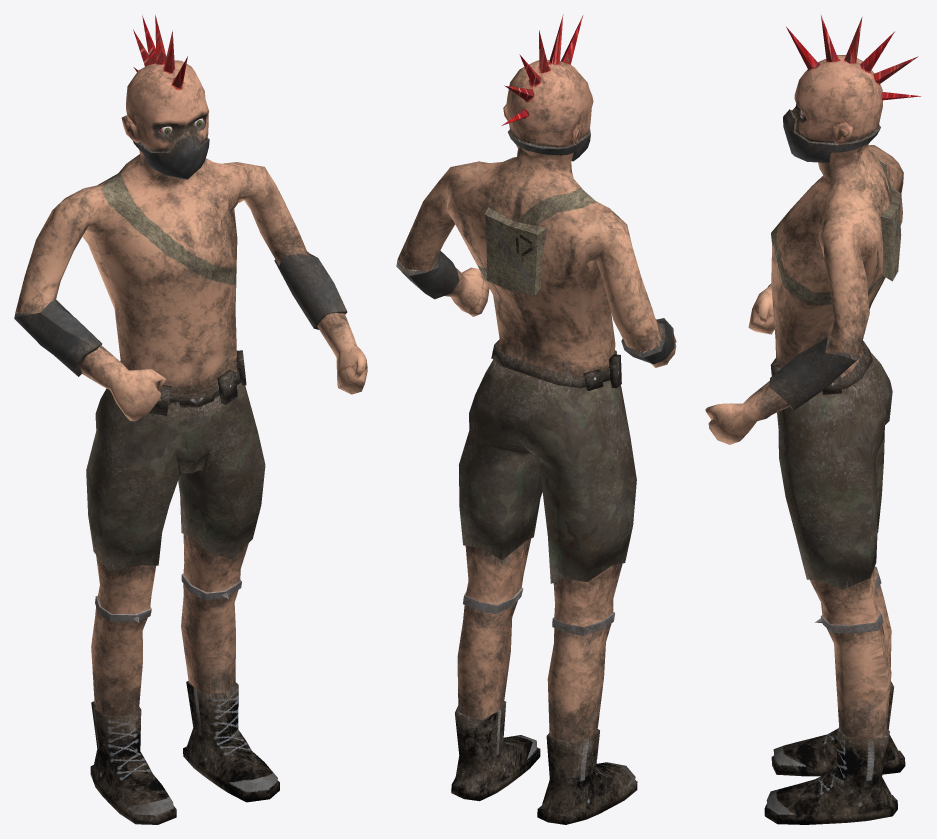
File: Anim_disparar_ametralladora_npc2.0015.obj
3 views of the same model, side by side, from view 1: azimuth 30°, elevation 25°; view 2: azimuth 150°, elevation 25°; view 3: azimuth 270°, elevation 25° (orthographic).
Visible parts, largest first — view 1: polySurface1; view 2: polySurface1; view 3: polySurface1.
Boxes of the visible parts, <box> form: polySurface1: <box>14,15,367,824</box>; polySurface1: <box>396,14,676,824</box>; polySurface1: <box>705,15,920,824</box>.
Size of the model in its own units: 3.92 by 10.2 by 2.61.
Materials: 2 (2 with a texture image).
